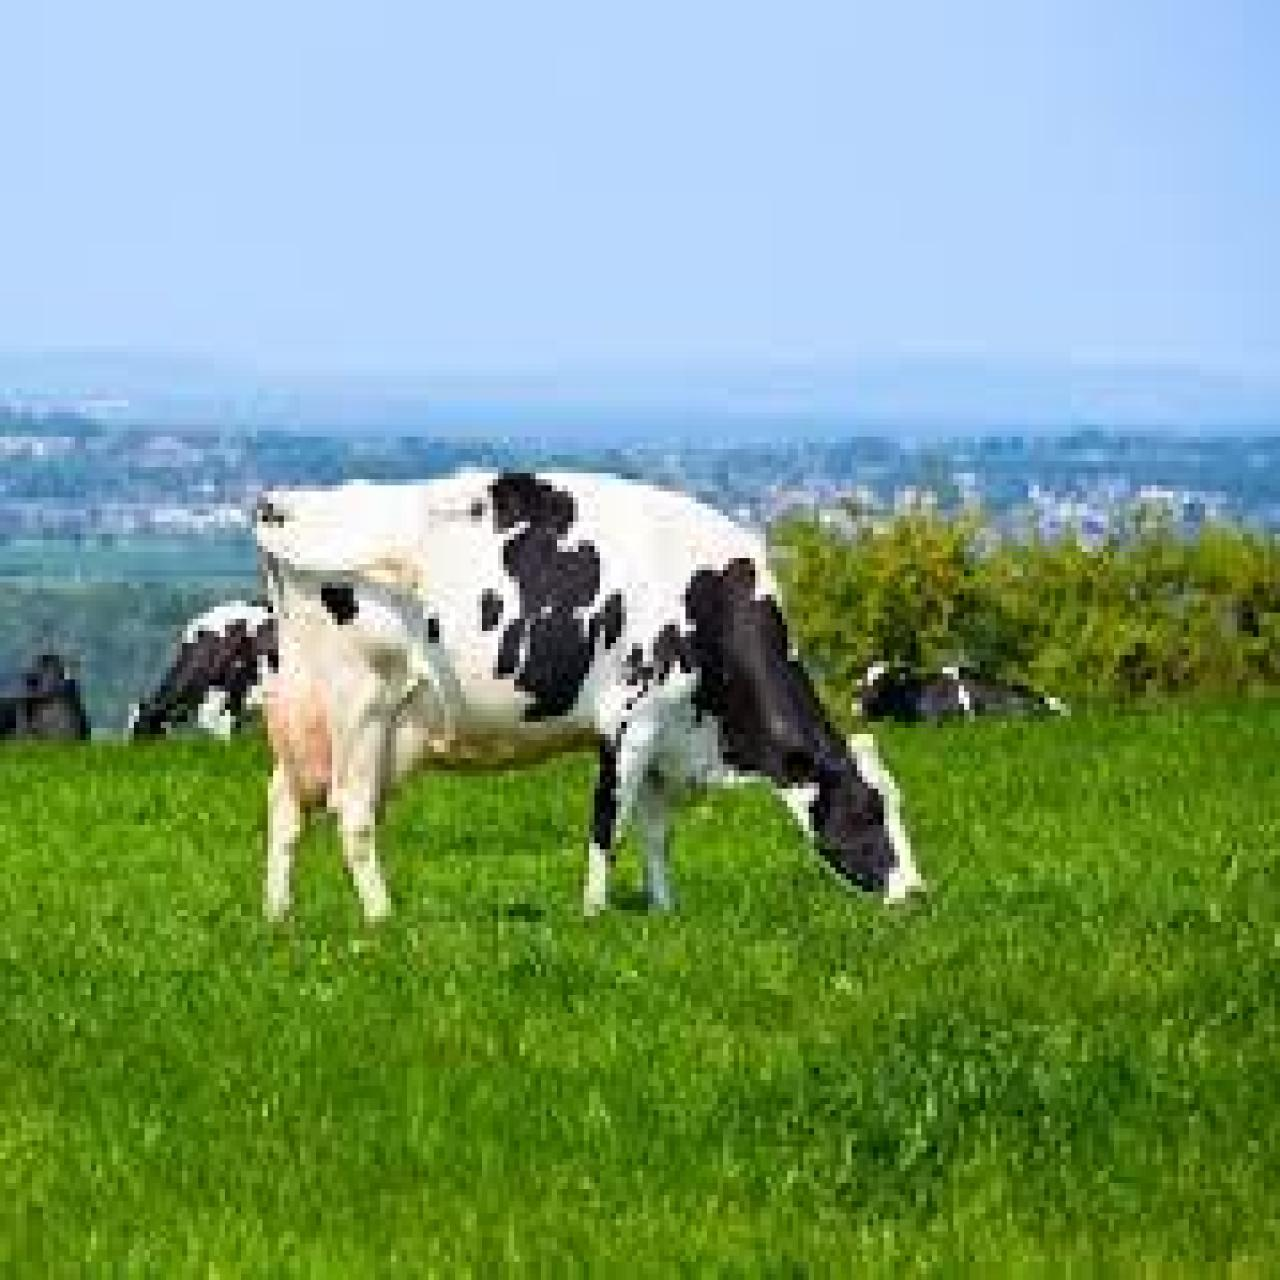cow: (248, 464, 930, 919), (121, 592, 281, 749), (852, 649, 1071, 722), (0, 646, 91, 749)
